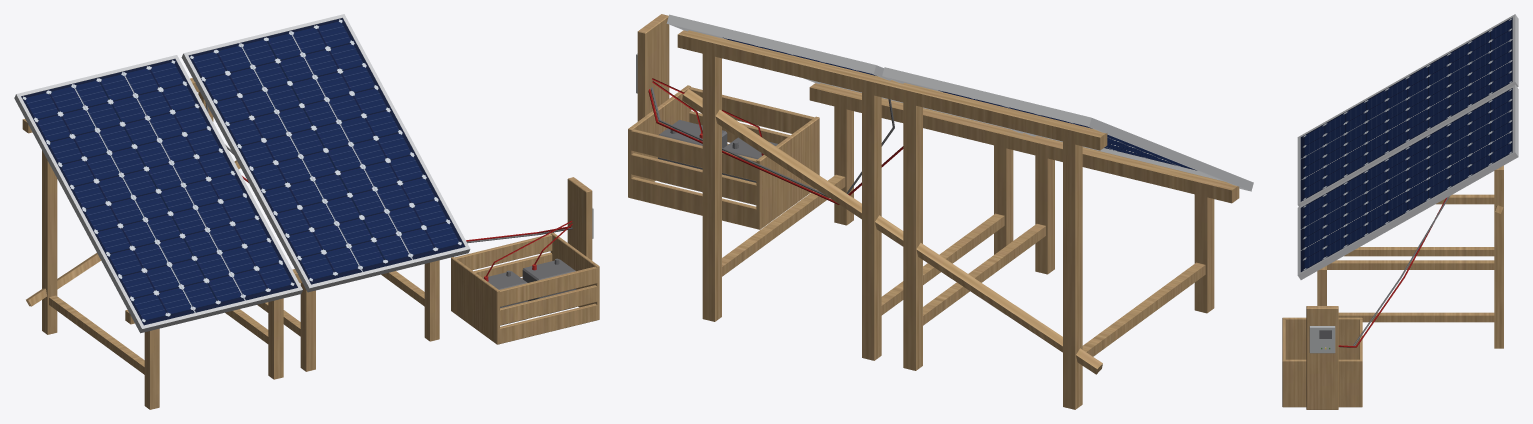
The model's file is painel_solar.glb.
3 views of the same model, side by side, from view 1: azimuth 30°, elevation 25°; view 2: azimuth 150°, elevation 25°; view 3: azimuth 270°, elevation 25° (orthographic). The views are drawn at different scales.
Visible parts, largest first — view 1: painel_solar_celulas_solares, painel_solar_madeira_crua, painel_solar_painel_moldura, painel_solar_plastico_preto, painel_solar_fio_vermelho; view 2: painel_solar_madeira_crua, painel_solar_painel_moldura, painel_solar_plastico_preto, painel_solar_celulas_solares, painel_solar_fio_vermelho; view 3: painel_solar_celulas_solares, painel_solar_madeira_crua, painel_solar_painel_moldura, painel_solar_plastico_cinza, painel_solar_plastico_preto, painel_solar_fio_vermelho.
Part boxes in pixels (x1,y1,x2,y2): painel_solar_celulas_solares: (21,18,465,325); painel_solar_madeira_crua: (22,78,599,409); painel_solar_painel_moldura: (14,14,470,333); painel_solar_plastico_preto: (205,103,576,325); painel_solar_fio_vermelho: (242,176,572,276); painel_solar_madeira_crua: (628,14,1239,409); painel_solar_painel_moldura: (666,14,1253,191); painel_solar_plastico_preto: (651,87,894,205); painel_solar_celulas_solares: (723,37,1196,170); painel_solar_fio_vermelho: (648,78,903,204); painel_solar_celulas_solares: (1300,17,1512,271); painel_solar_madeira_crua: (1282,165,1503,409); painel_solar_painel_moldura: (1297,14,1518,279); painel_solar_plastico_cinza: (1309,326,1335,353); painel_solar_plastico_preto: (1319,196,1449,347); painel_solar_fio_vermelho: (1338,197,1447,347).
Size of the model in its own units: 2.86 by 1.41 by 1.47.
10 materials, 2 textured.
